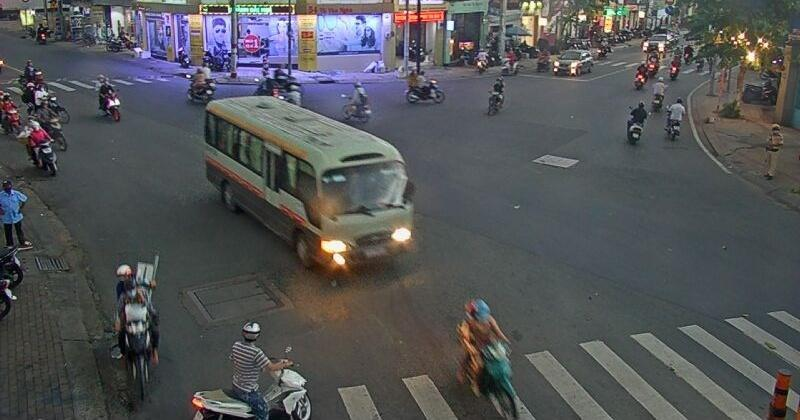xe buyt: (203, 94, 411, 266)
xe may: (190, 320, 310, 420), (457, 298, 518, 418), (114, 262, 159, 395), (22, 119, 57, 175), (24, 82, 70, 121), (405, 69, 445, 104), (96, 77, 120, 121), (626, 100, 647, 142), (666, 97, 684, 140), (0, 90, 19, 128), (487, 76, 504, 115)
